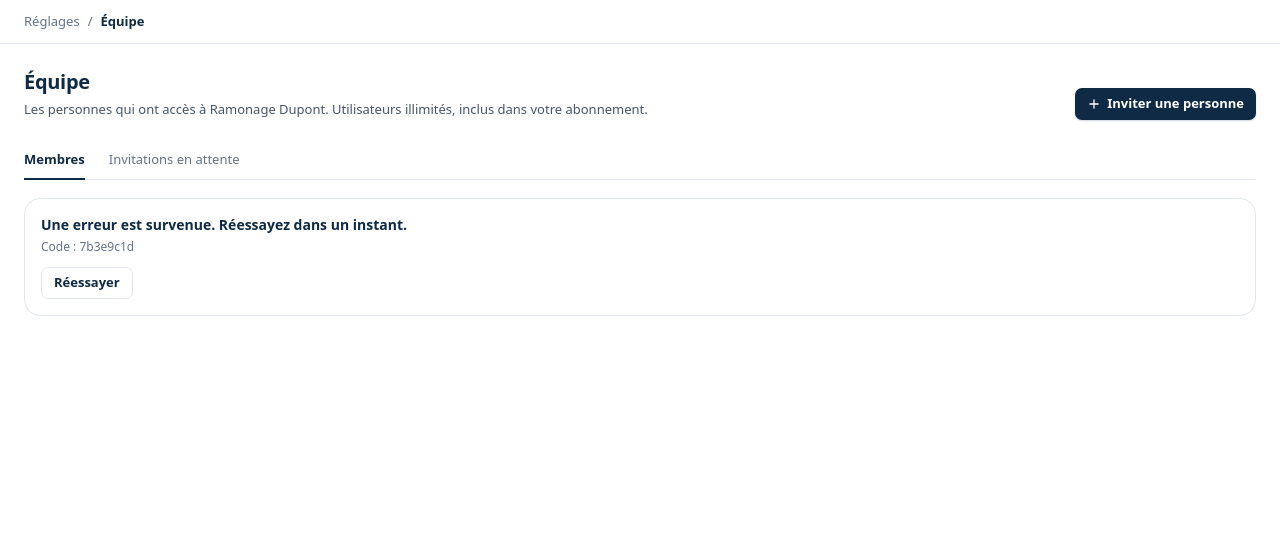
it: TeamScreen › shows the load error with the short trace id and retries on demand
The image size is (1280, 534).
Expected: the message shows "Une erreur est survenue. Réessayez dans un instant.", [41, 215, 407, 234]
Expected: the message does not show "7b3e9c1d-2f4a-4b6c-8d0e-1a2b3c4d5e6f", [24, 198, 1256, 316]
Click the button "Réessayer": [87, 283] box [41, 267, 133, 299]
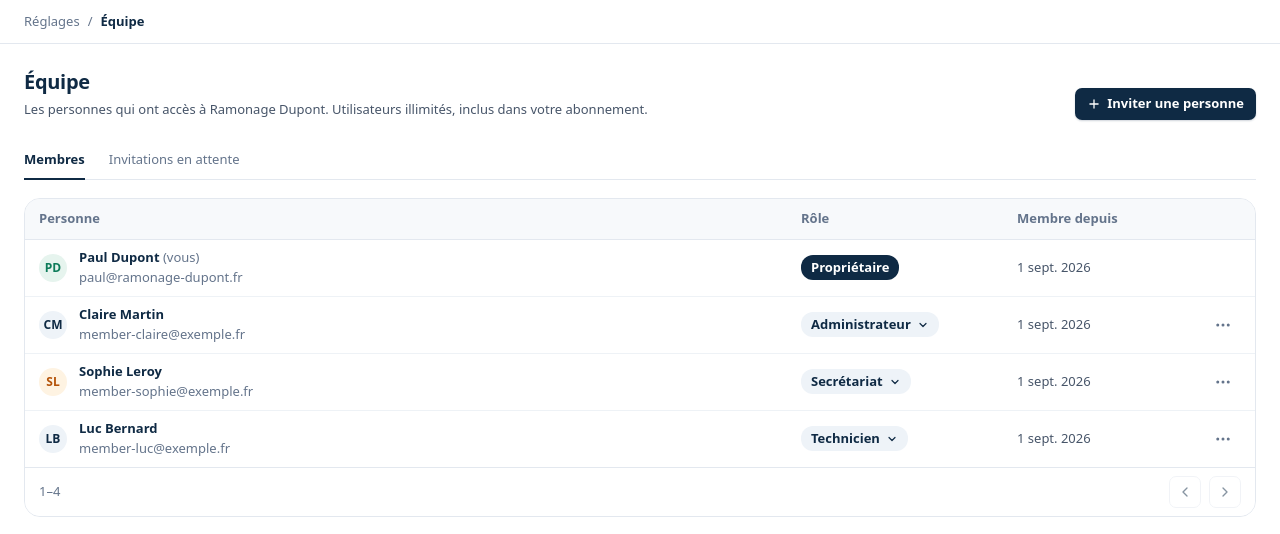
Result: the text "Claire Martin" is shown at [79, 305, 164, 323]
Result: the message "Une erreur est survenue. Réessayez dans un instant. Code : 7b3e9c1d Réessayer" is gone
